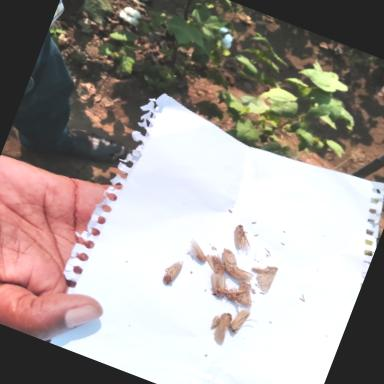abw: (244, 258, 280, 295), (226, 304, 262, 340), (208, 308, 236, 348), (216, 260, 256, 286), (228, 222, 258, 254), (216, 246, 246, 275), (204, 270, 234, 299), (182, 236, 212, 264), (200, 251, 231, 278), (158, 256, 184, 288)
